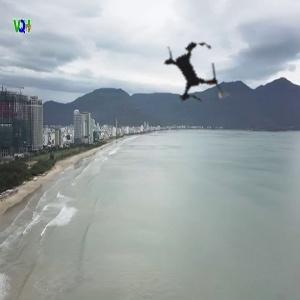drone: (139, 15, 254, 130)
